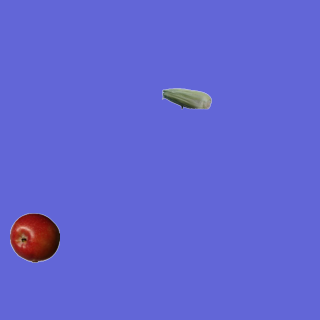Apple Braeburn: (9, 212, 59, 262)
Corn Husk: (161, 73, 211, 123)
